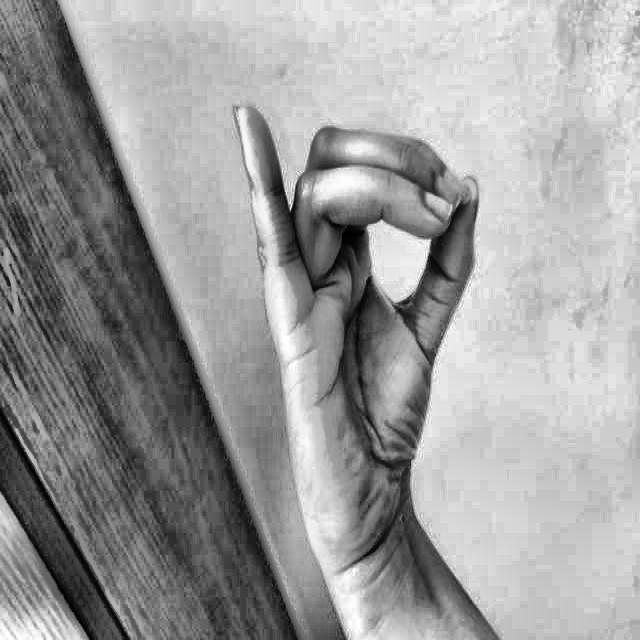Ou: (205, 61, 491, 584)
